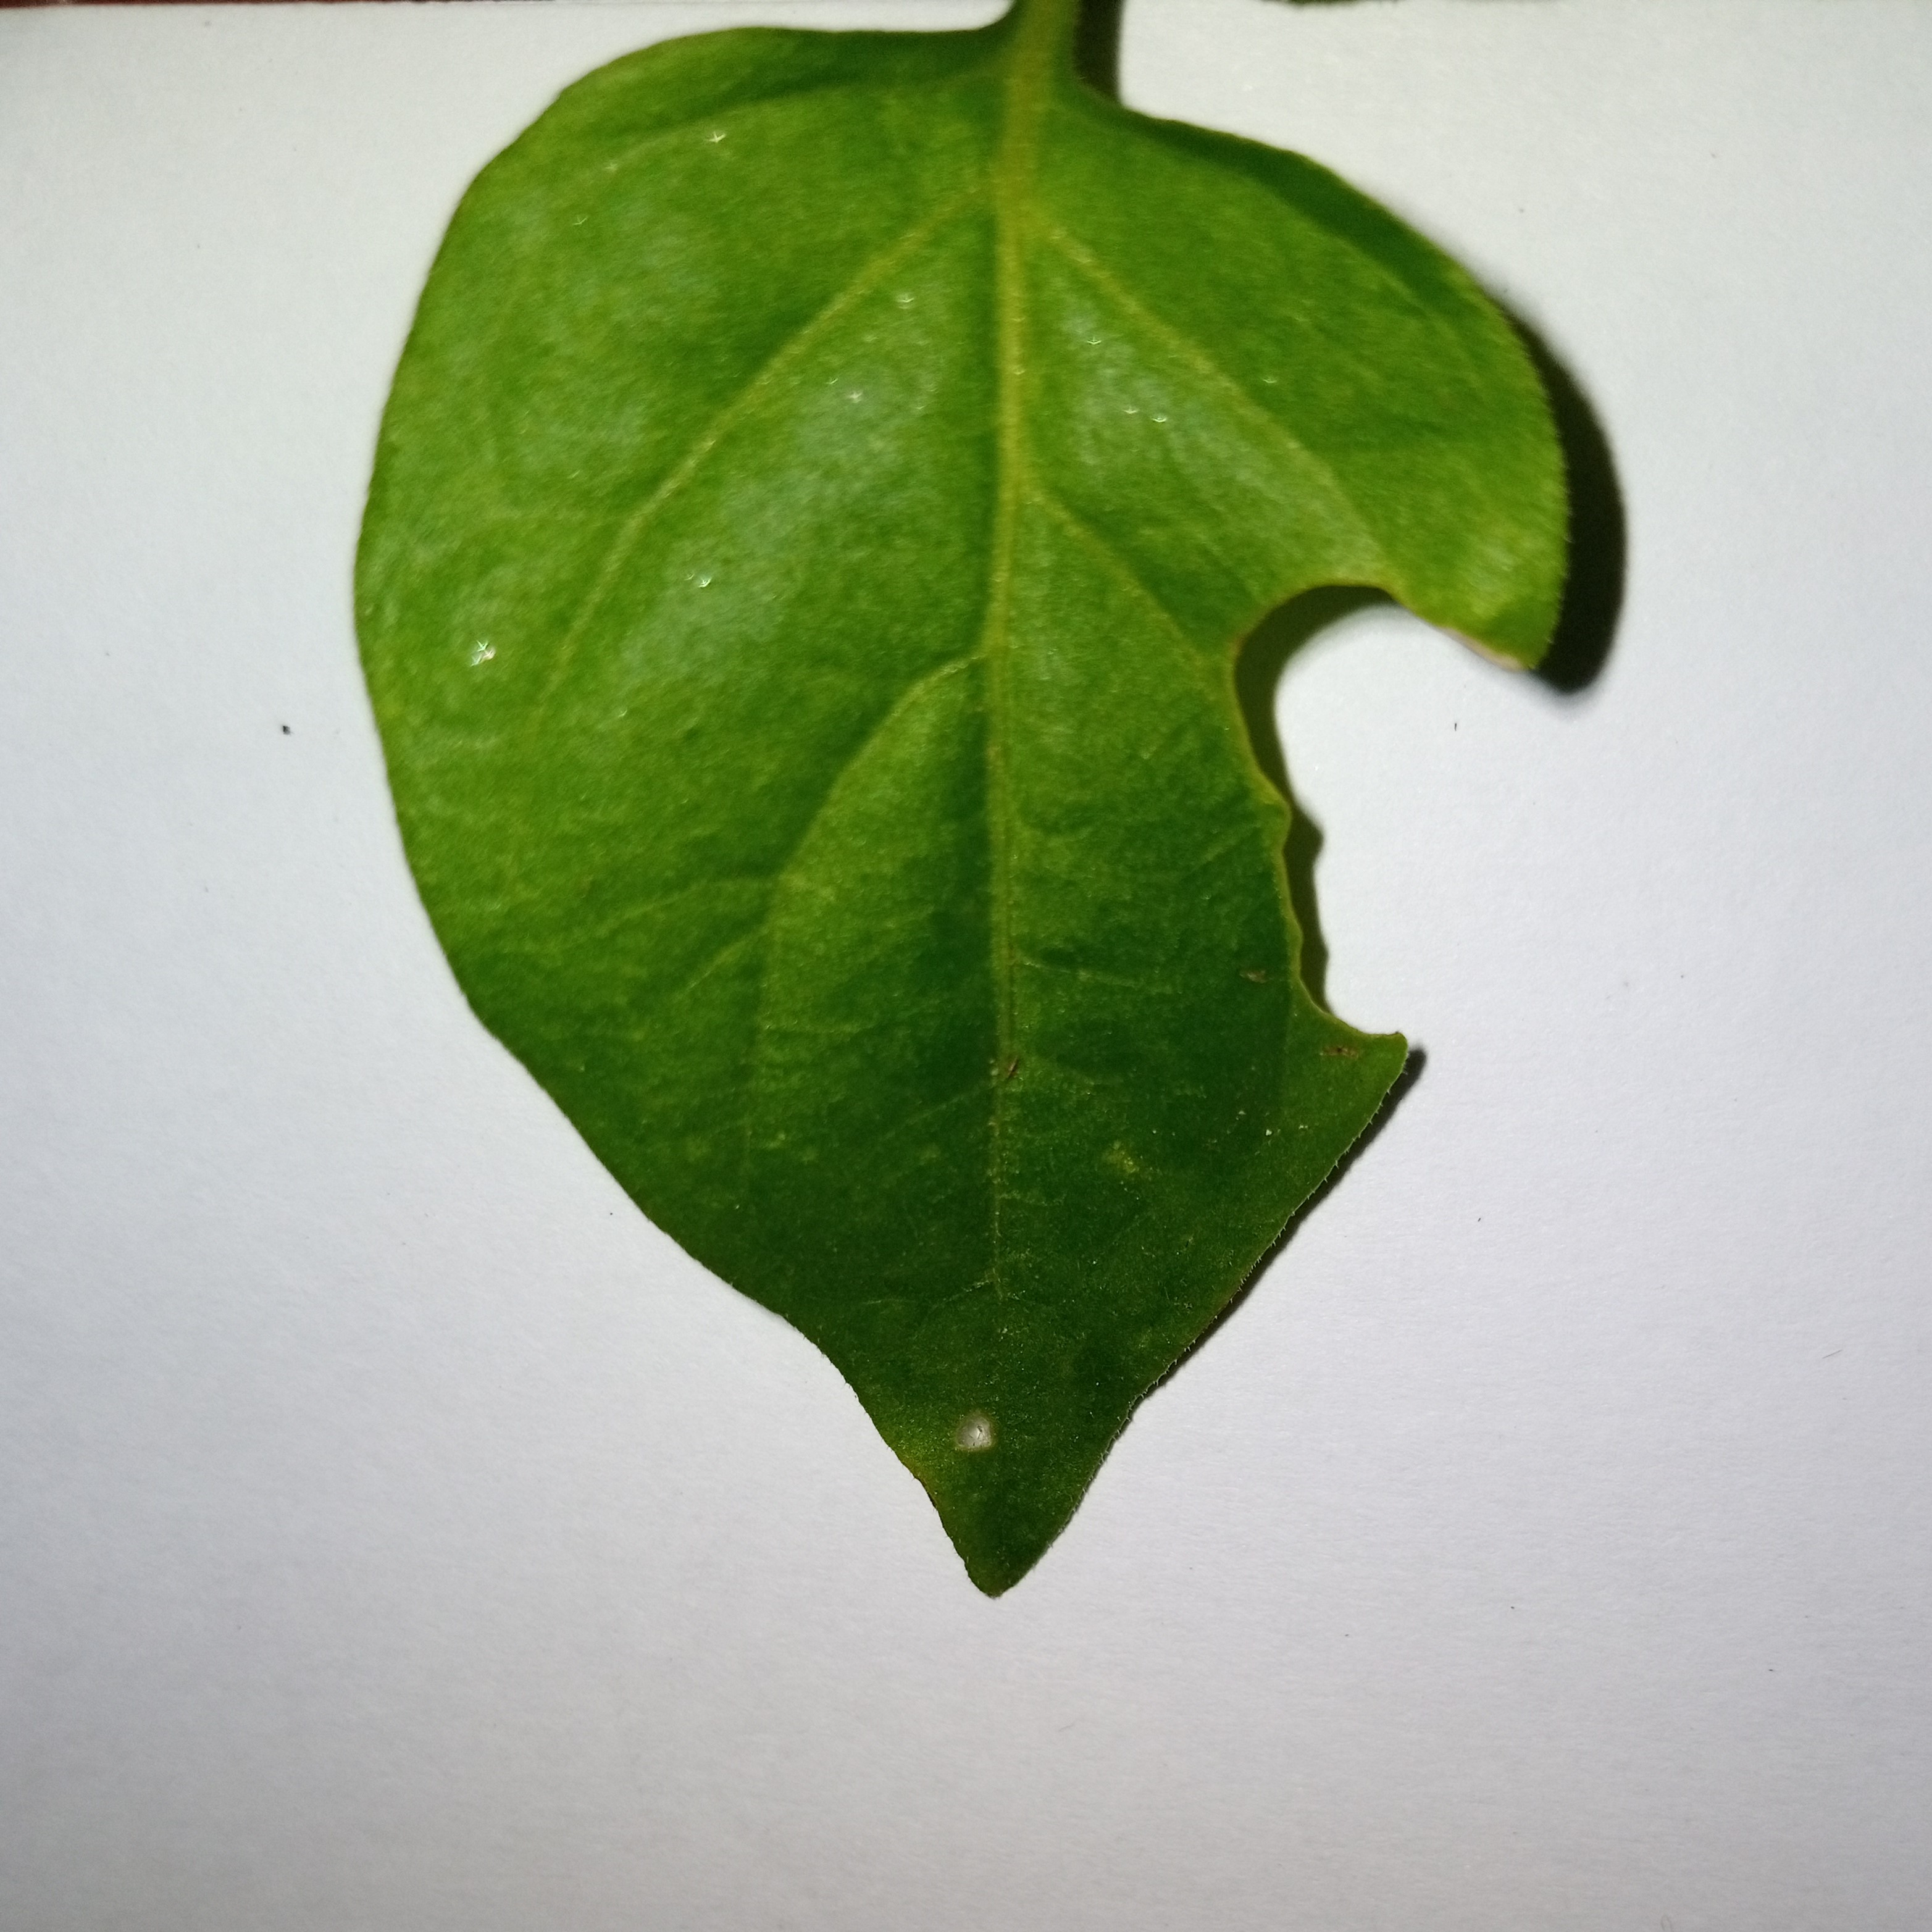Leaf: (230, 4, 1775, 1681)
